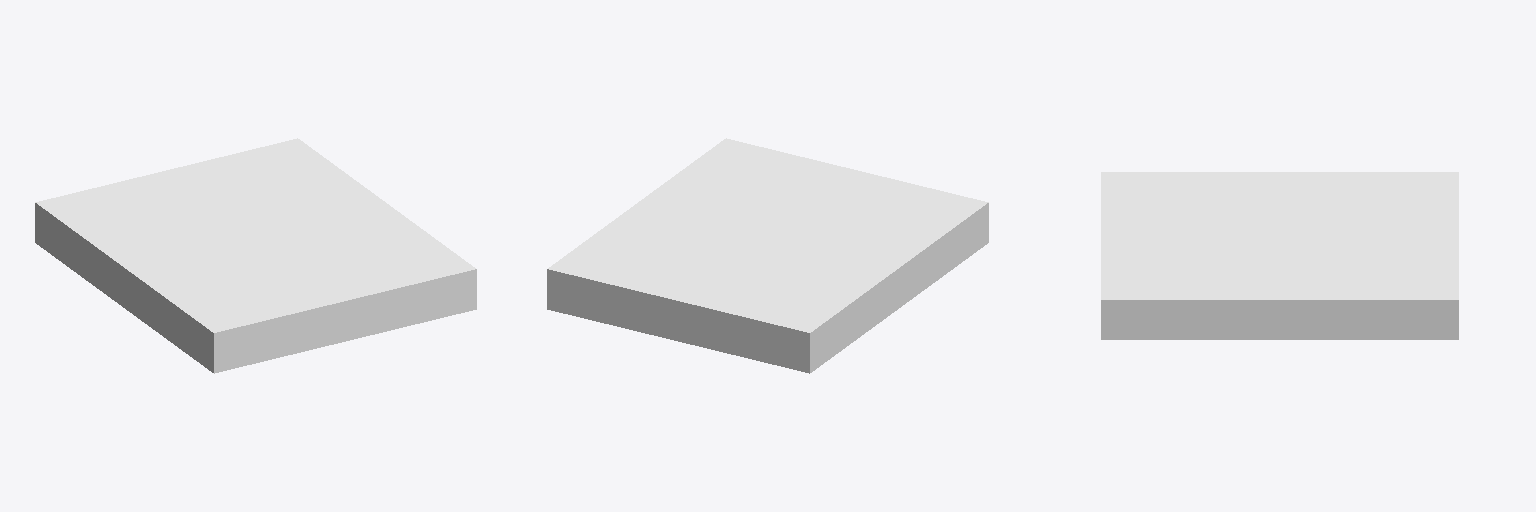
The model's file is Walls-0.obj.
3 views of the same model, side by side, from view 1: azimuth 30°, elevation 25°; view 2: azimuth 150°, elevation 25°; view 3: azimuth 270°, elevation 25° (orthographic).
Parts seen in each view (by area): view 1: object 1; view 2: object 1; view 3: object 1.
Part boxes in pixels (left/top/right/bottom): object 1: left=35, top=138, right=476, bottom=373; object 1: left=547, top=138, right=988, bottom=373; object 1: left=1101, top=172, right=1458, bottom=339.
Bounding box in the file's own units: 3.4 × 0.5 × 4.